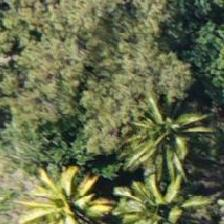coconut_tree: (124, 95, 214, 185), (24, 167, 114, 223), (119, 177, 209, 223)
